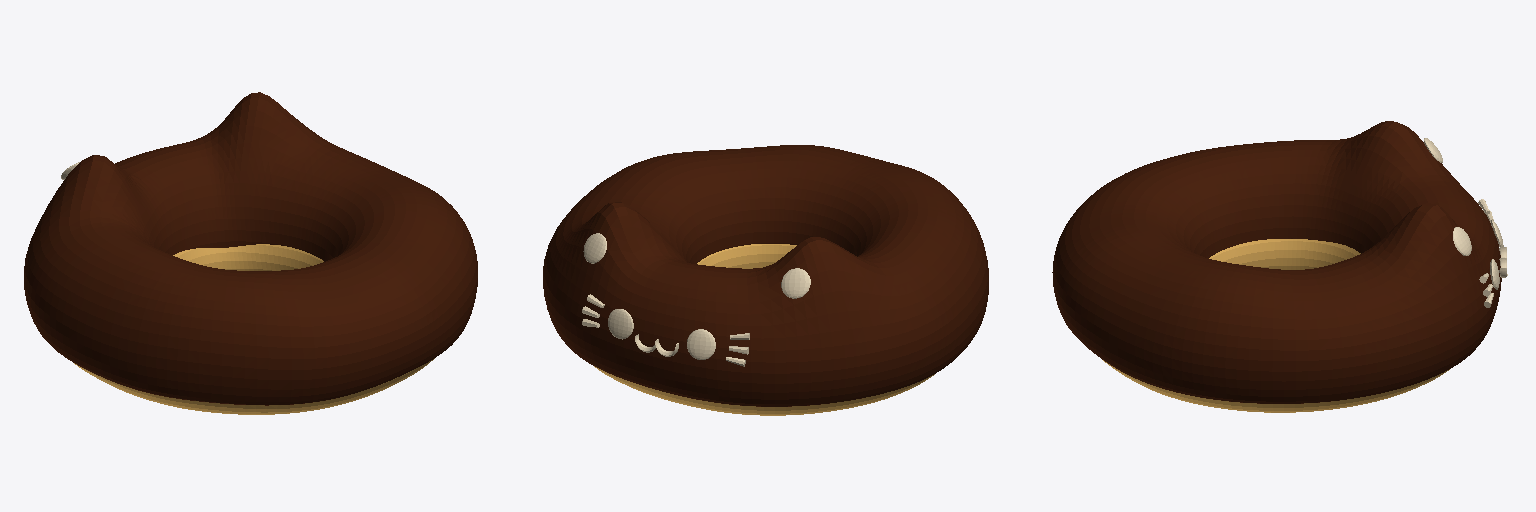
3 views of the same model, side by side, from view 1: azimuth 30°, elevation 25°; view 2: azimuth 150°, elevation 25°; view 3: azimuth 270°, elevation 25° (orthographic).
Visible parts, largest first — view 1: 01_Icing_Kuroneko.001_Torus.002, 00_Donut_Base.001_Torus.003; view 2: 01_Icing_Kuroneko.001_Torus.002, 00_Donut_Base.001_Torus.003, 02_Cat_Eye_Dot_Right.001_Sphere.007, 02_Cat_Ear_Dot_Right.001_Sphere.005, 02_Cat_Eye_Dot_Left.001_Sphere.006, 02_Cat_Ear_Dot_Left.001_Sphere.001; view 3: 01_Icing_Kuroneko.001_Torus.002, 00_Donut_Base.001_Torus.003.
Part boxes in pixels (x1,y1,x2,y2): 01_Icing_Kuroneko.001_Torus.002: (24,92,477,405); 00_Donut_Base.001_Torus.003: (74,244,434,414); 01_Icing_Kuroneko.001_Torus.002: (543,145,988,406); 00_Donut_Base.001_Torus.003: (594,244,934,415); 02_Cat_Eye_Dot_Right.001_Sphere.007: (687,329,715,359); 02_Cat_Ear_Dot_Right.001_Sphere.005: (781,268,810,298); 02_Cat_Eye_Dot_Left.001_Sphere.006: (608,309,633,339); 02_Cat_Ear_Dot_Left.001_Sphere.001: (583,233,606,263); 01_Icing_Kuroneko.001_Torus.002: (1052,121,1501,403); 00_Donut_Base.001_Torus.003: (1103,239,1449,412).
Size of the model in its own units: 1.14 by 0.4965 by 1.16.
Materials: 3 (3 with a texture image).